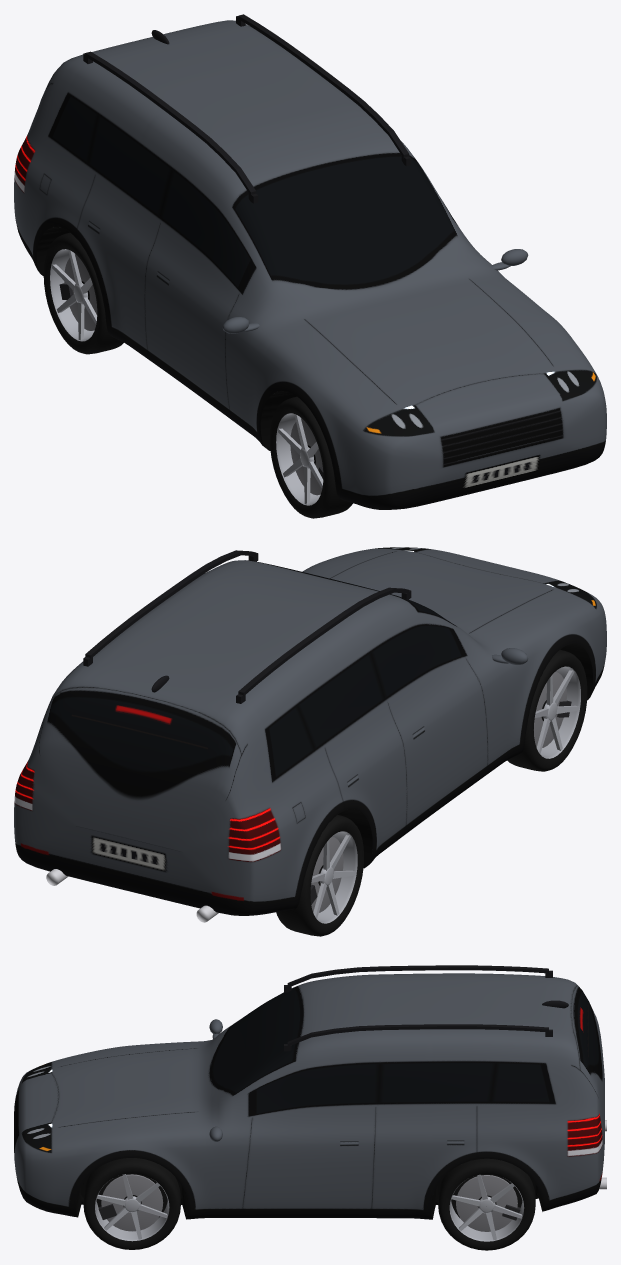
File: car_traffic_suv.glb
The picture shows the model from 3 angles, top to bottom: view 1: azimuth 30°, elevation 25°; view 2: azimuth 150°, elevation 25°; view 3: azimuth 270°, elevation 25°; orthographic projection. The views are drawn at different scales.
Visible parts, largest first — view 1: Body, Wheel_FR, Wheel_RR; view 2: Body, Wheel_RR, Wheel_FR; view 3: Body, Wheel_RL, Wheel_FL.
Part boxes in pixels (bbox=[...]): Body: bbox=[14, 14, 606, 509]; Wheel_FR: bbox=[269, 396, 352, 518]; Wheel_RR: bbox=[43, 232, 123, 354]; Body: bbox=[14, 547, 606, 922]; Wheel_RR: bbox=[276, 815, 363, 936]; Wheel_FR: bbox=[507, 649, 587, 771]; Body: bbox=[14, 965, 606, 1220]; Wheel_RL: bbox=[438, 1158, 535, 1250]; Wheel_FL: bbox=[83, 1158, 180, 1249].
Bounding box in the file's own units: 2.23 × 1.83 × 4.77.
9 materials, 1 textured.
